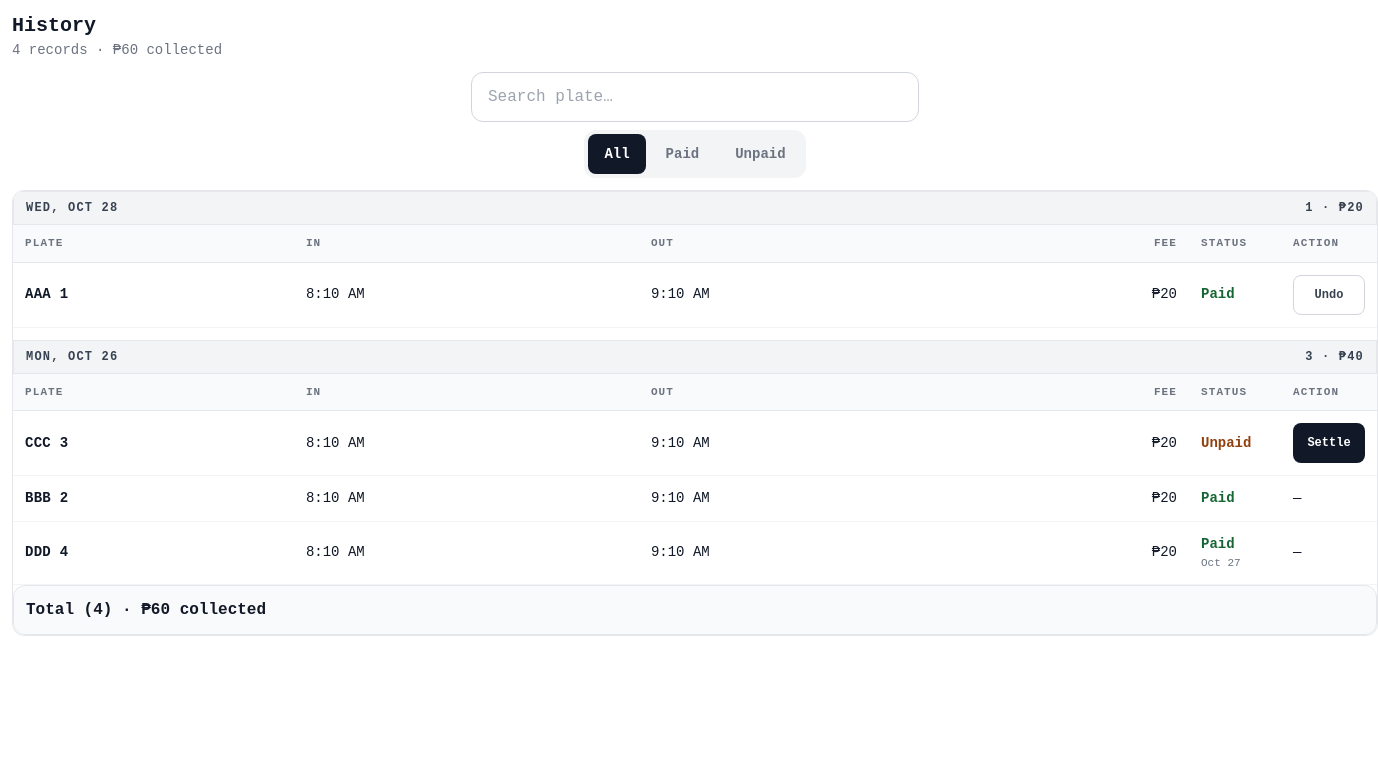
Test: History actions › shows Due instead of ₱0 collected under the unpaid filter
The image size is (1378, 780).
Expected: the button "Settle" is shown, [1293,423,1365,463]
Click the button "Unpaid": (760, 154) [719,134,802,174]
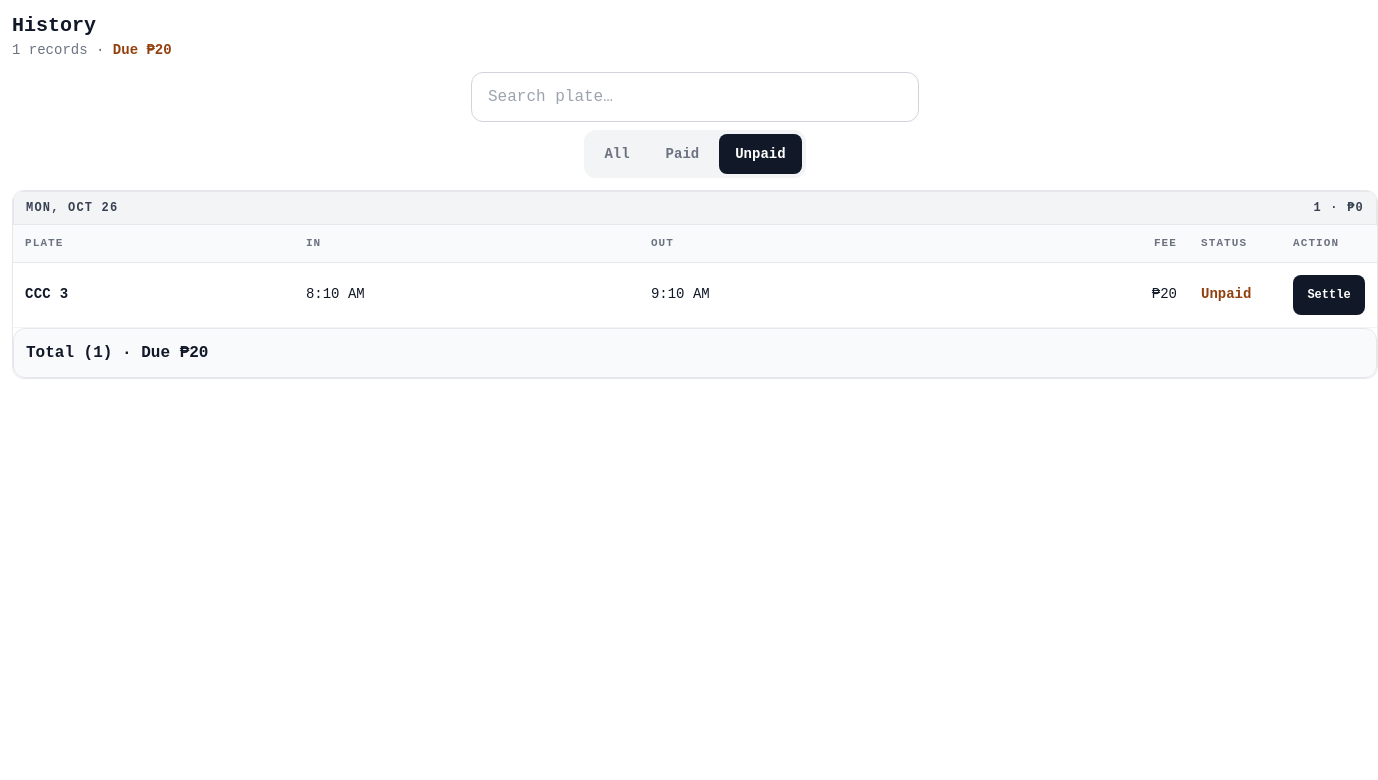
Now the text "1 records · Due ₱20" is shown, box [12,42,172,58]
Now the text "Due ₱20" is shown, box [113,42,172,58]
Click the button "Paid": (682, 154) [650,134,715,174]
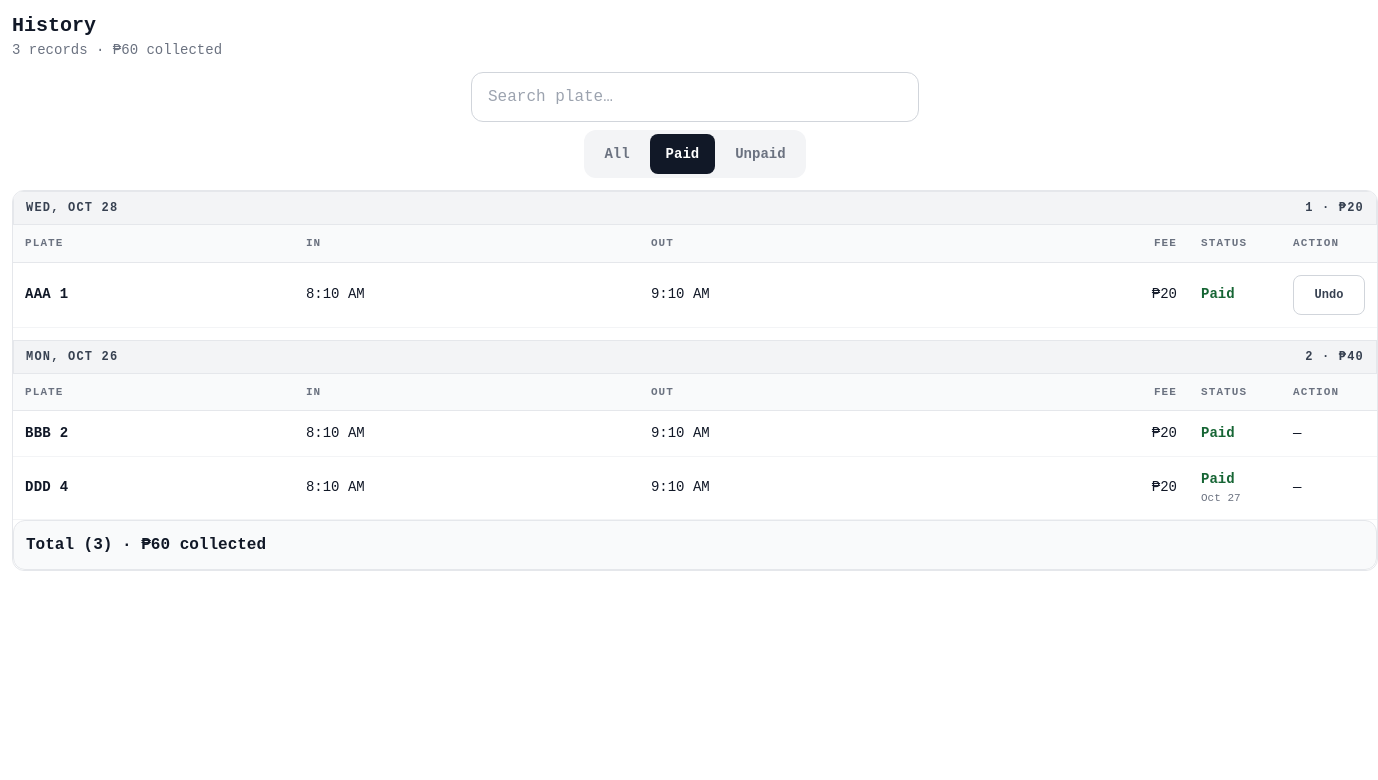
Now the text "3 records · ₱60 collected" is shown, box [12,42,222,58]
